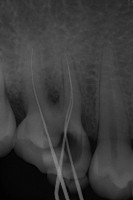Endo-Periodontal Lesion: (44, 67, 60, 103)
